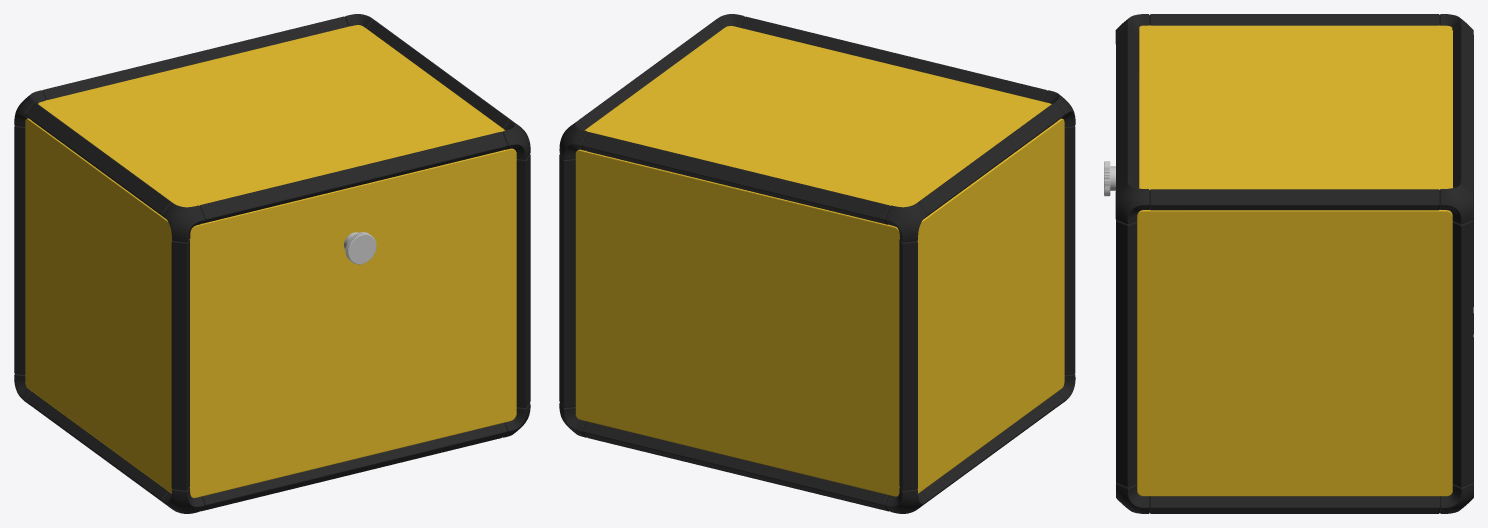
3 renders of one model, left to right at view 1: azimuth 30°, elevation 25°; view 2: azimuth 150°, elevation 25°; view 3: azimuth 270°, elevation 25°, orthographic. The views are drawn at different scales.
Parts seen in each view (by area): view 1: 420x329x330; view 2: 420x329x330; view 3: 420x329x330.
Part boxes in pixels (x1,y1,x2,y2): 420x329x330: (14,14,530,513); 420x329x330: (559,14,1075,513); 420x329x330: (1104,14,1473,513).
Size of the model in its own units: 0.4977 by 0.4066 by 0.4196.
